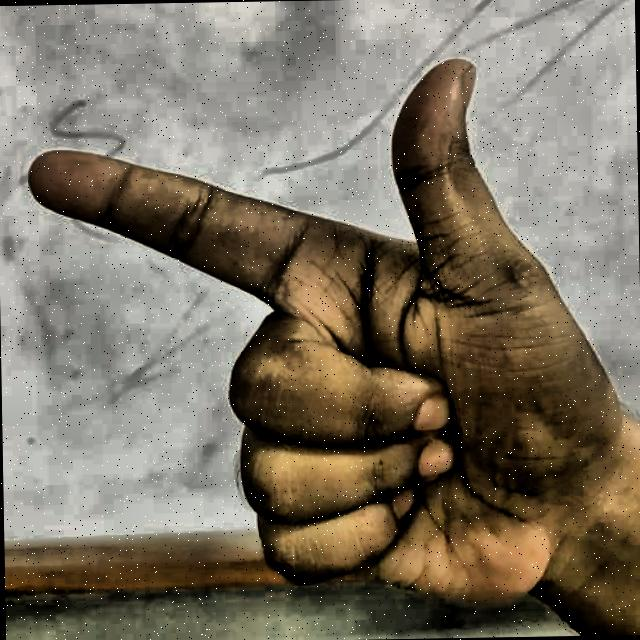Tha: (18, 42, 623, 622)
